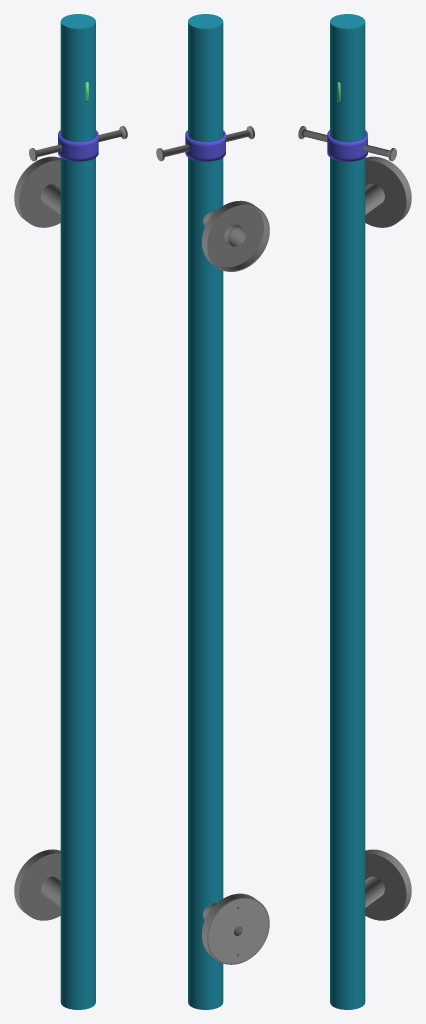
File: DRY Amsterdam.obj
3 renders of one model, left to right at view 1: azimuth 30°, elevation 25°; view 2: azimuth 210°, elevation 25°; view 3: azimuth 330°, elevation 25°, orthographic.
Visible parts, largest first — view 1: Cylinder003, 4D4C743DE3102212B8493DB7F81B30DD715FB530___B8A4396250C5687B1D31E, D9DC4FA4FD53AE50CA581CD9081D509AD04EF849___B8A4396250C5687B1D31E, Tube003, 63BA2014C78DEC881B086CFF8F77897FA0C680C8___B8A4396250C5687B1D31E; view 2: Cylinder003, 4D4C743DE3102212B8493DB7F81B30DD715FB530___B8A4396250C5687B1D31E, 1265AD2434F4E705C2614A3BC05789307072649F___B8A4396250C5687B1D31E, Tube003, D9DC4FA4FD53AE50CA581CD9081D509AD04EF849___B8A4396250C5687B1D31E, 2D0A08EE6EE63A64FA515302848C25B22047A234___B8A4396250C5687B1D31E; view 3: Cylinder003, 4D4C743DE3102212B8493DB7F81B30DD715FB530___B8A4396250C5687B1D31E, D9DC4FA4FD53AE50CA581CD9081D509AD04EF849___B8A4396250C5687B1D31E, Tube003, 2D0A08EE6EE63A64FA515302848C25B22047A234___B8A4396250C5687B1D31E.
Part boxes in pixels (box(x1,y1,x2,y2)): Cylinder003: box(60, 14, 95, 1009); 4D4C743DE3102212B8493DB7F81B30DD715FB530___B8A4396250C5687B1D31E: box(14, 156, 60, 920); D9DC4FA4FD53AE50CA581CD9081D509AD04EF849___B8A4396250C5687B1D31E: box(41, 183, 60, 907); Tube003: box(58, 130, 98, 161); 63BA2014C78DEC881B086CFF8F77897FA0C680C8___B8A4396250C5687B1D31E: box(29, 144, 62, 161); Cylinder003: box(188, 14, 223, 1009); 4D4C743DE3102212B8493DB7F81B30DD715FB530___B8A4396250C5687B1D31E: box(202, 200, 269, 964); 1265AD2434F4E705C2614A3BC05789307072649F___B8A4396250C5687B1D31E: box(208, 898, 268, 963); Tube003: box(185, 130, 225, 161); D9DC4FA4FD53AE50CA581CD9081D509AD04EF849___B8A4396250C5687B1D31E: box(203, 210, 246, 919); 2D0A08EE6EE63A64FA515302848C25B22047A234___B8A4396250C5687B1D31E: box(156, 144, 189, 161); Cylinder003: box(330, 14, 365, 1009); 4D4C743DE3102212B8493DB7F81B30DD715FB530___B8A4396250C5687B1D31E: box(365, 156, 411, 920); D9DC4FA4FD53AE50CA581CD9081D509AD04EF849___B8A4396250C5687B1D31E: box(365, 183, 384, 907); Tube003: box(327, 130, 367, 161); 2D0A08EE6EE63A64FA515302848C25B22047A234___B8A4396250C5687B1D31E: box(363, 144, 396, 161).
Bounding box in the file's own units: 122 × 1238 × 98.23.
